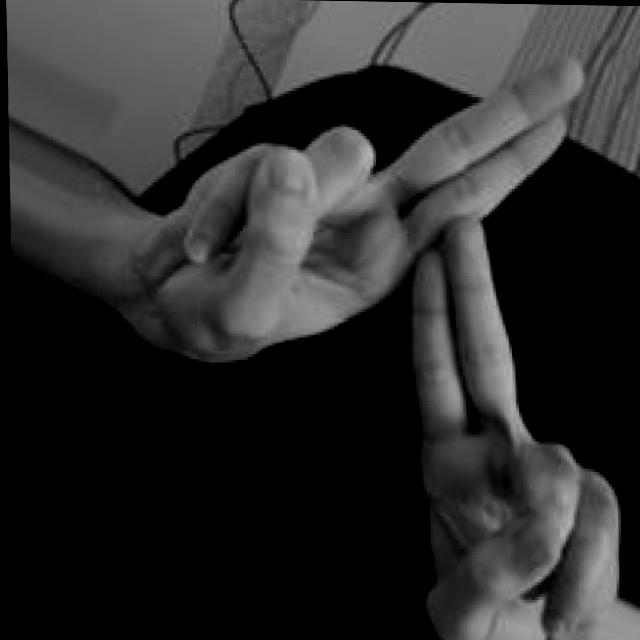K: (134, 47, 636, 640)
